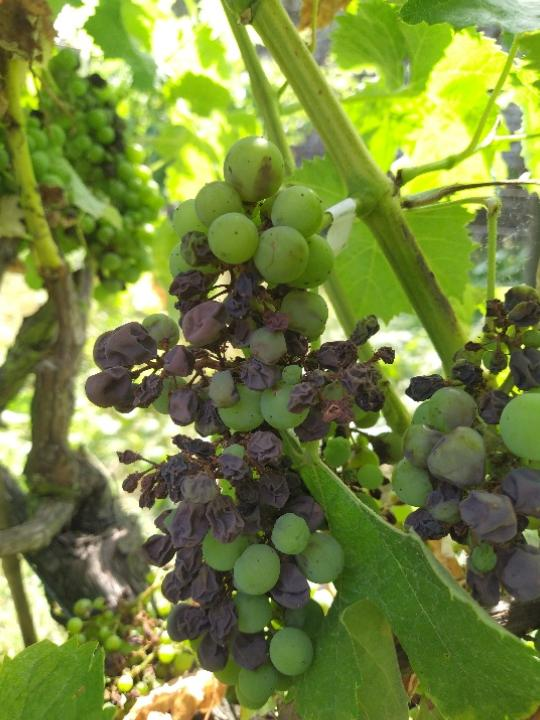grape: (82, 129, 399, 712), (12, 49, 160, 293)
